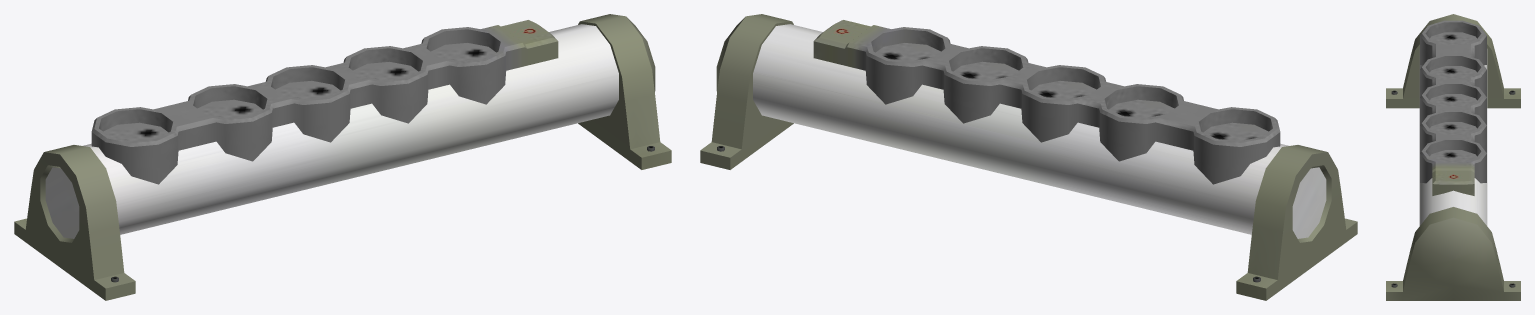
Rendered from plug_strip.glb.
3 views of the same model, side by side, from view 1: azimuth 30°, elevation 25°; view 2: azimuth 150°, elevation 25°; view 3: azimuth 270°, elevation 25° (orthographic). The views are drawn at different scales.
Parts seen in each view (by area): view 1: plug_strip; view 2: plug_strip; view 3: plug_strip.
Part boxes in pixels (<box>): plug_strip: <box>14,14,671,300</box>; plug_strip: <box>700,14,1357,300</box>; plug_strip: <box>1386,14,1520,300</box>.
Size of the model in its own units: 0.2579 by 0.0524 by 0.0702.
1 material, 1 textured.
